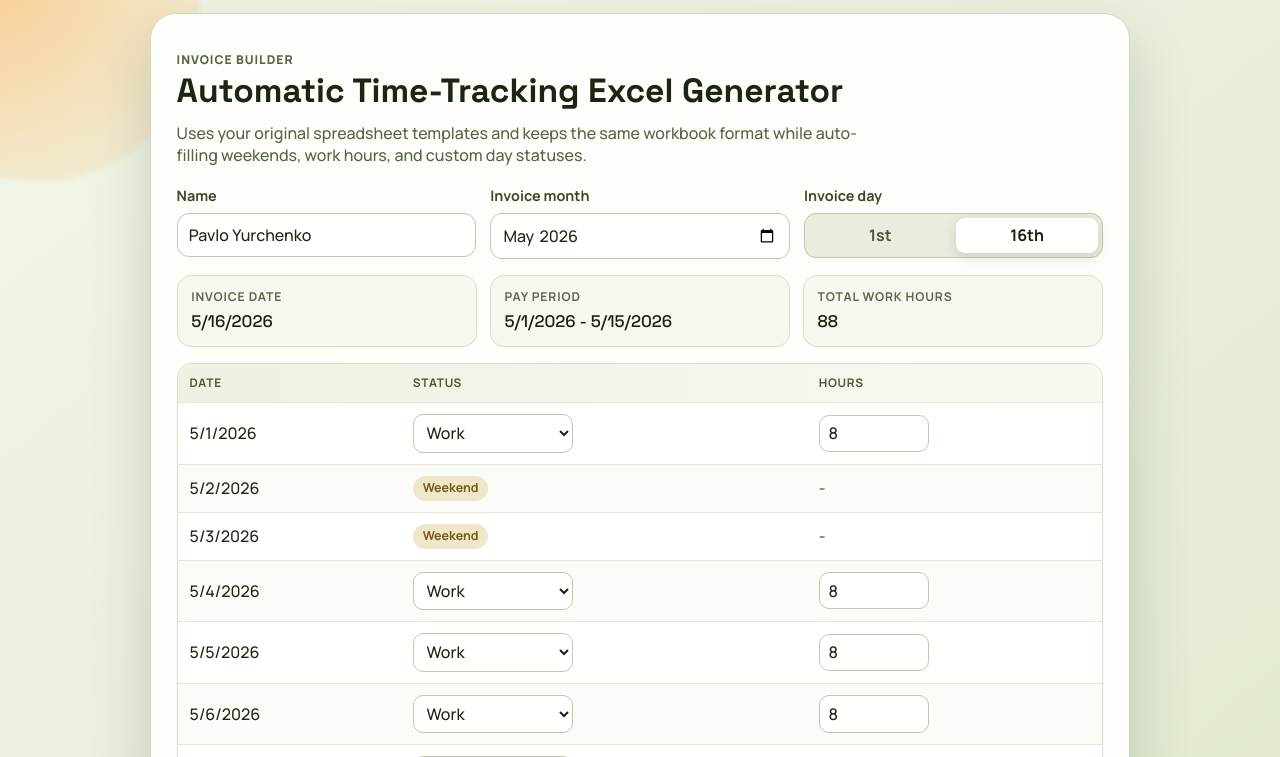
App generation behavior › shows the existing template fetch failure error behavior
This screenshot has width=1280, height=757.
Replace the text in the field labelled "Invoice month" with "2026-02" at (640, 236), box [490,213,790,259]
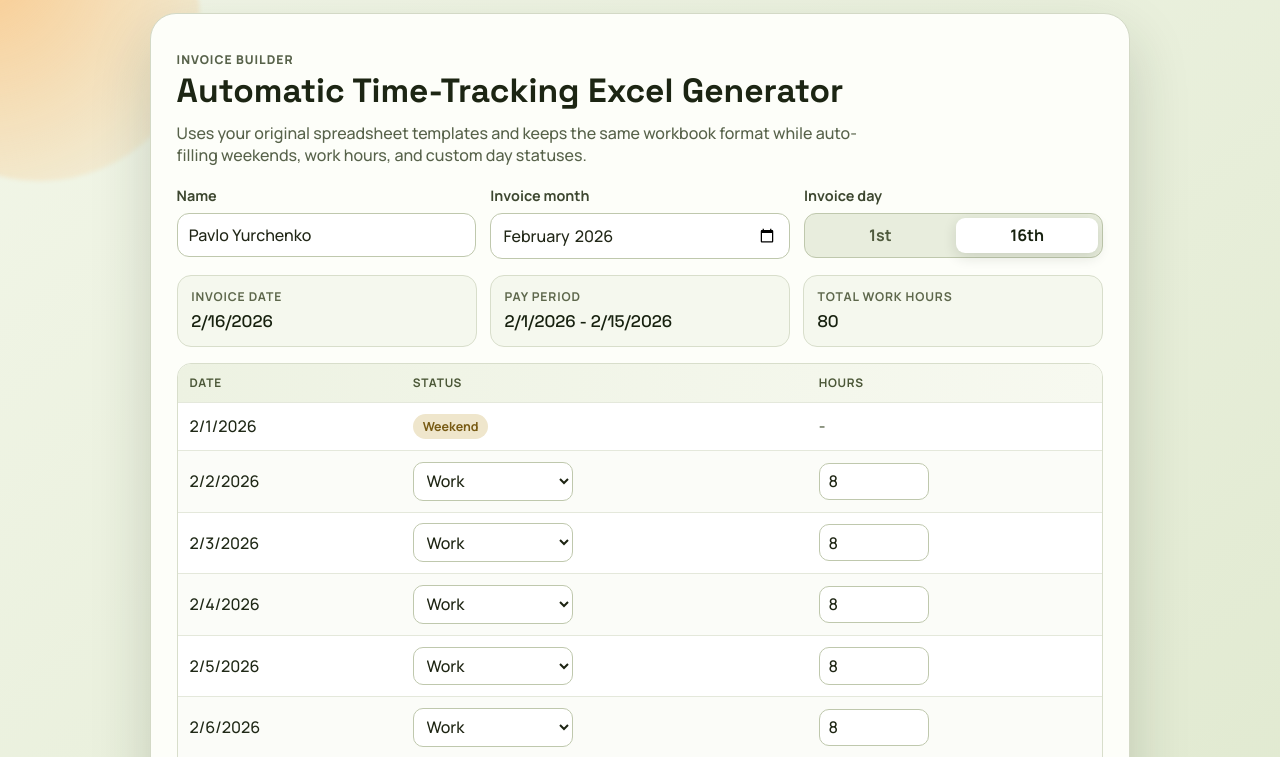
Click the button "16th" at (1027, 235), box [956,218,1098,253]
(page scrolled)
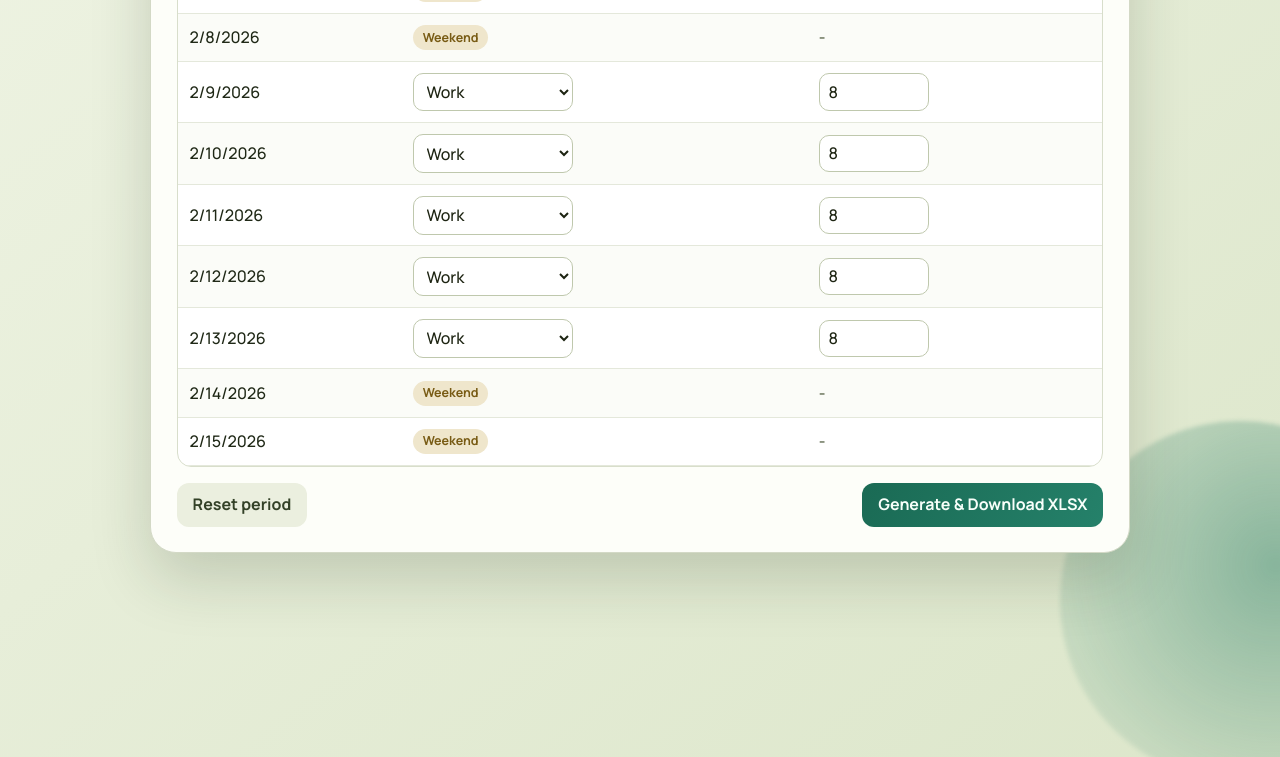
Click the button "Generate & Download XLSX" at (983, 505), box [862,483,1103,527]
(page scrolled)
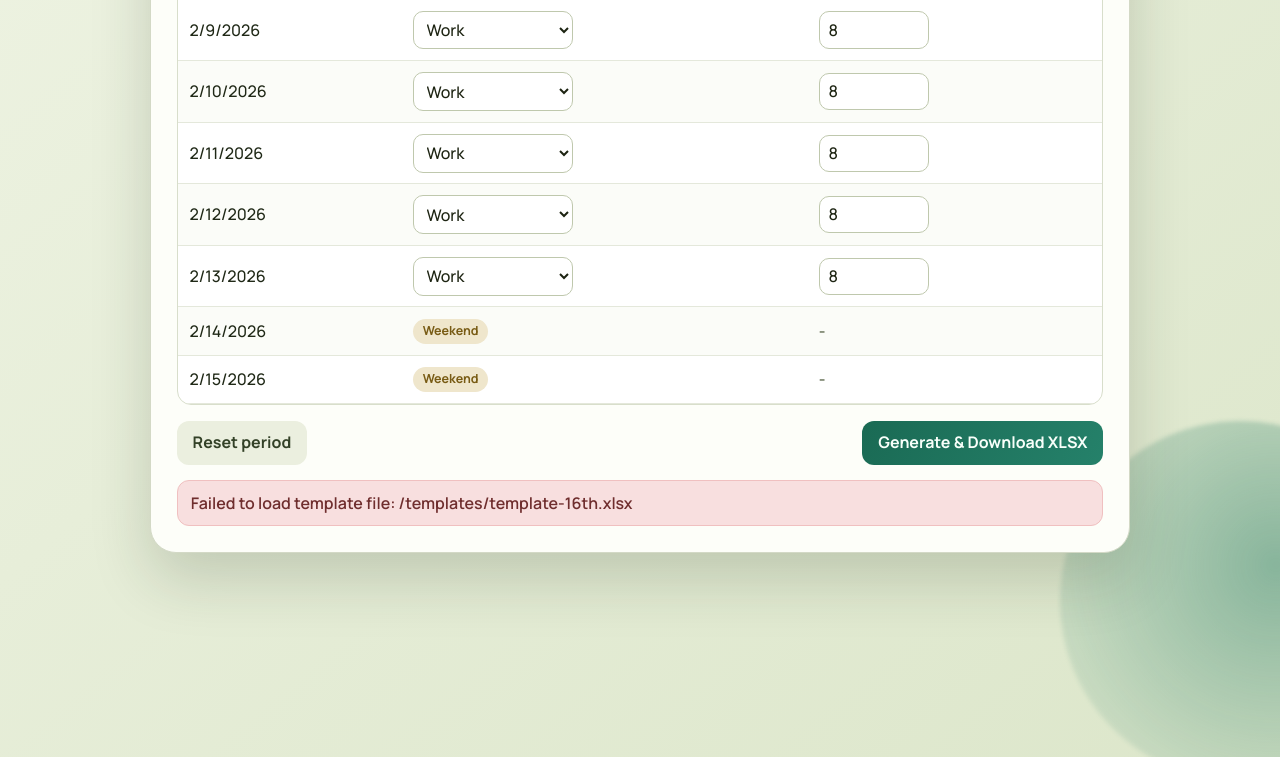
Expected: the text "Failed to load template file: /templates/template-16th.xlsx" is shown, [177,480,1103,526]
